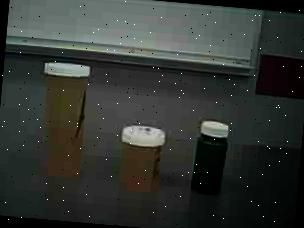Bottle A: (31, 55, 106, 184)
Bottle B: (112, 116, 172, 201)
Bottle C: (180, 112, 241, 206)
